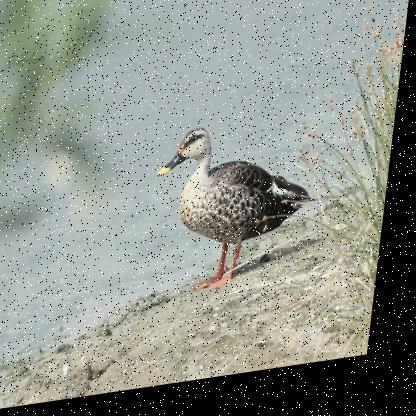Burung: (150, 119, 333, 302)
